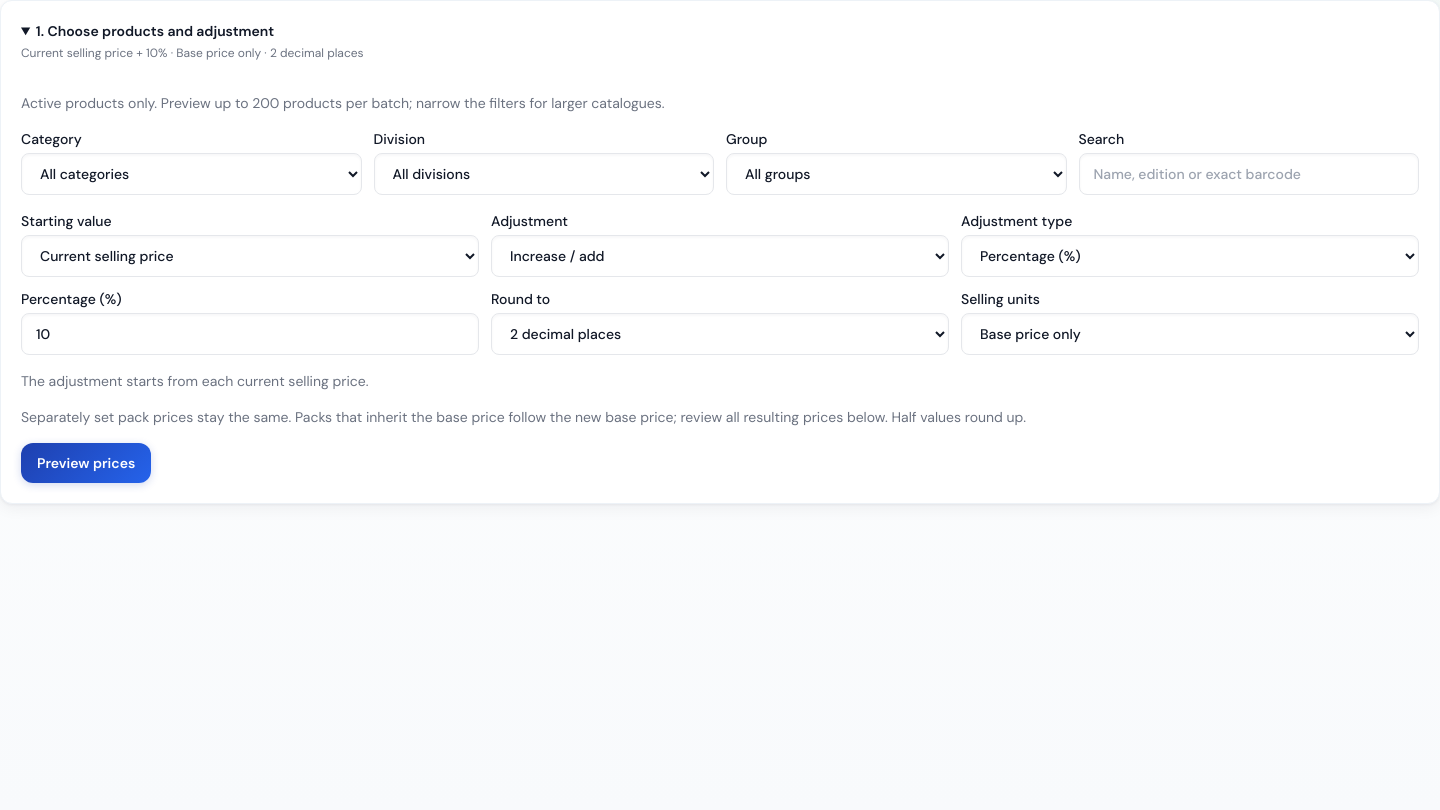
Test: does not select invalid or unchanged rows and removes stale previews after server refusal
This screenshot has width=1440, height=810.
Click the button "Preview prices". click: (86, 463)
box: [21,443,151,483]
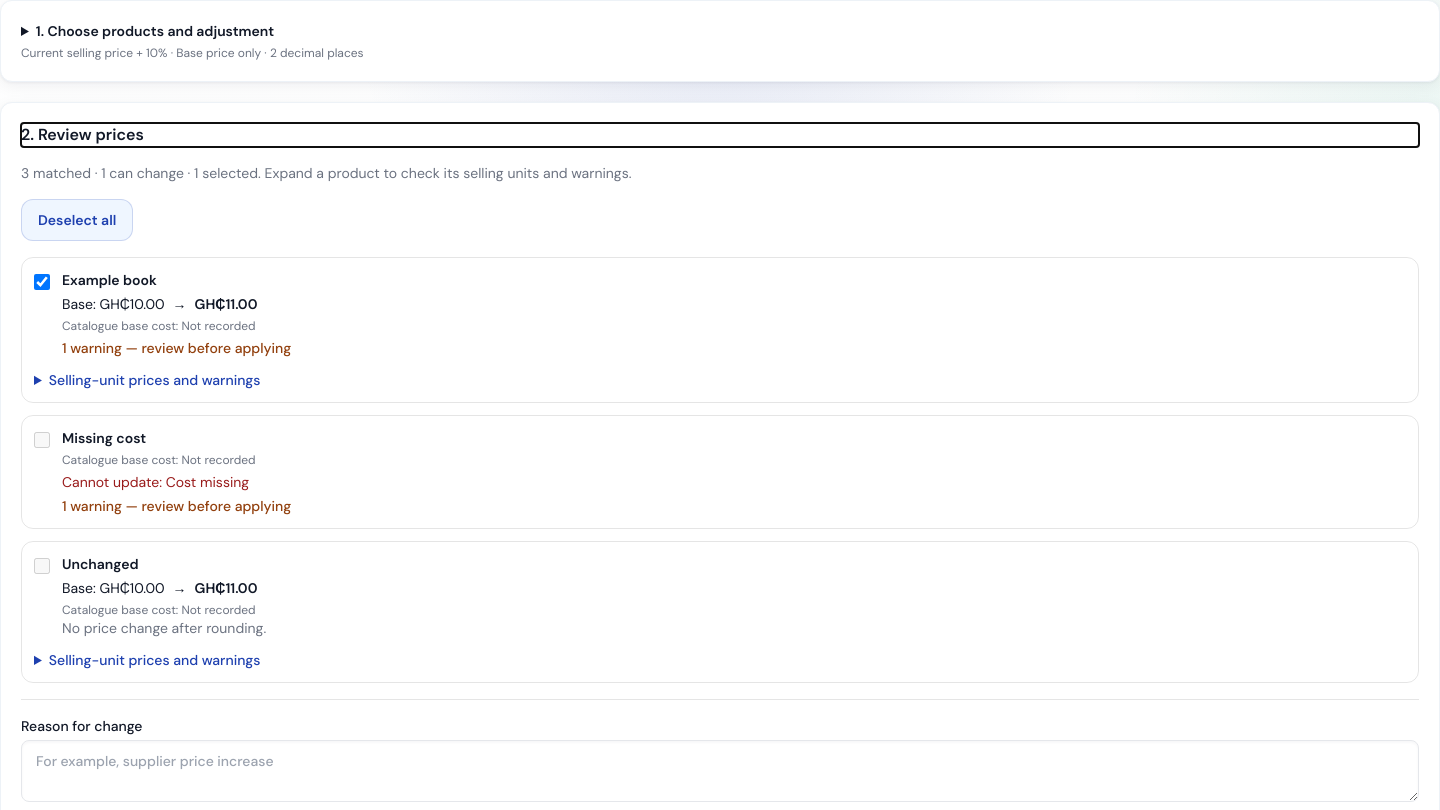
Now the text "Example book" is shown, box [62,271,157,289]
Now the 1st checkbox is checked, box [34,274,50,290]
Now the 2nd checkbox is disabled, box [34,432,50,448]
Type "Review" into the text box labelled "Reason for change". click: (720, 771)
box: [21,740,1419,802]
(page scrolled)
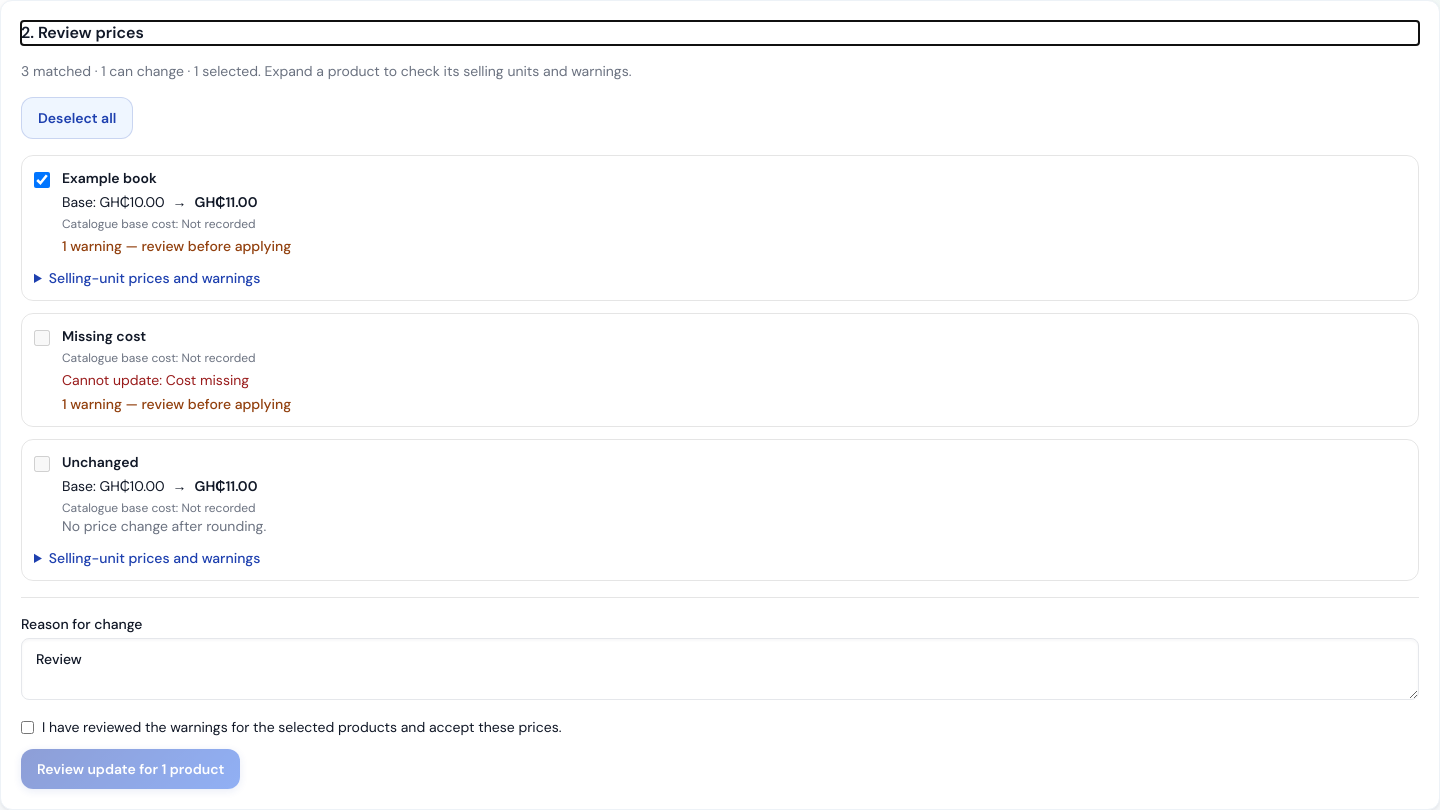
Click the checkbox labelled "I have reviewed". click: (28, 728)
box: [21,721,34,734]
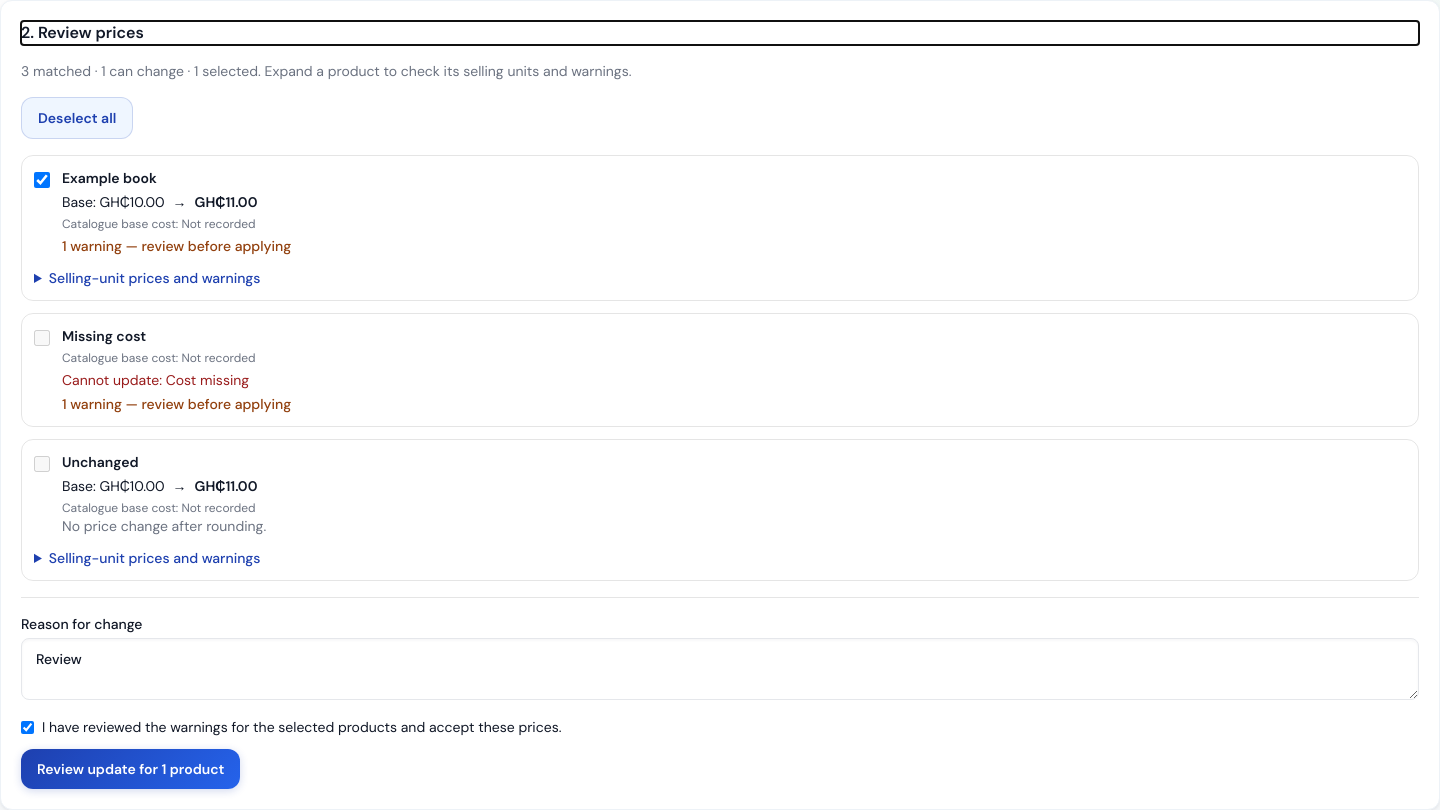
Click the button "Review update for 1 product". click: (131, 769)
box: [21,749,240,789]
(page scrolled)
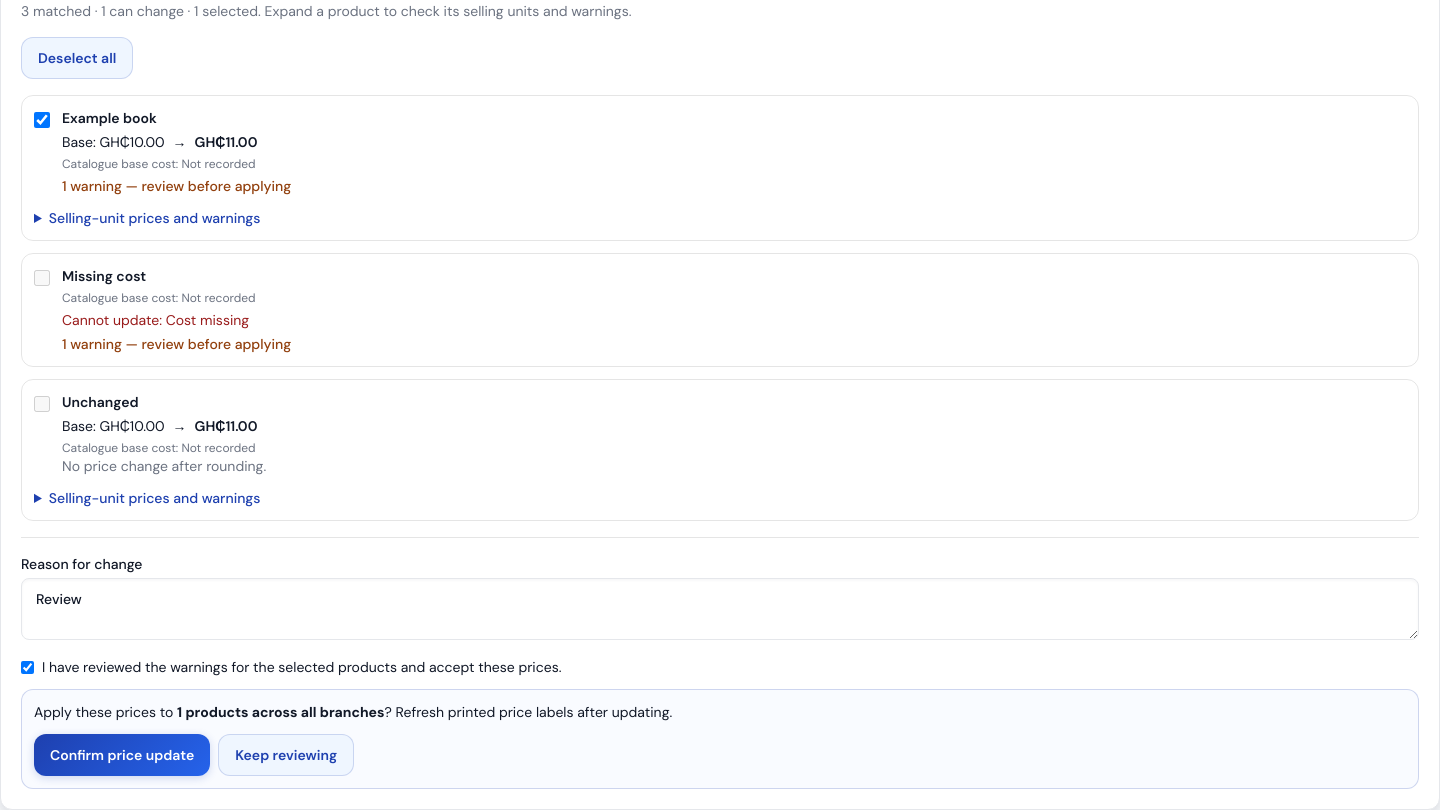
Click the button "Confirm price update". click: (122, 755)
box: [34,734,210,776]
(page scrolled)
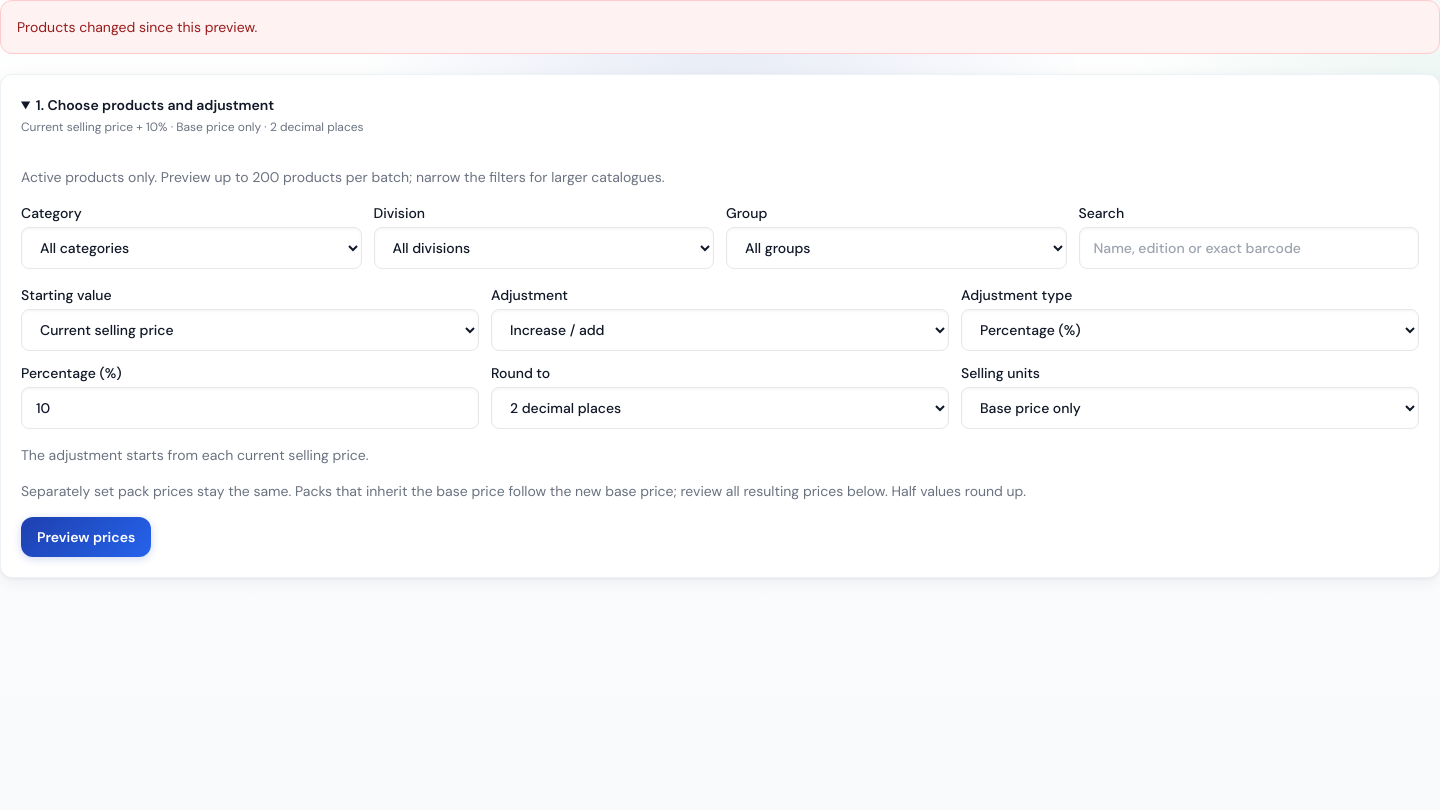
Now the message "Products changed since this preview." is shown, box [0,0,1439,54]
Now the text "Example book" is gone
